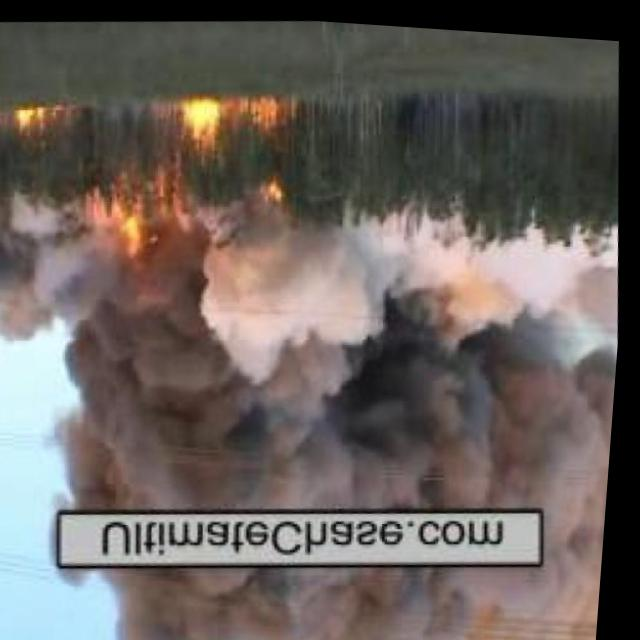Fire: (115, 210, 158, 272), (183, 94, 230, 150), (12, 103, 57, 134), (259, 96, 290, 125)
